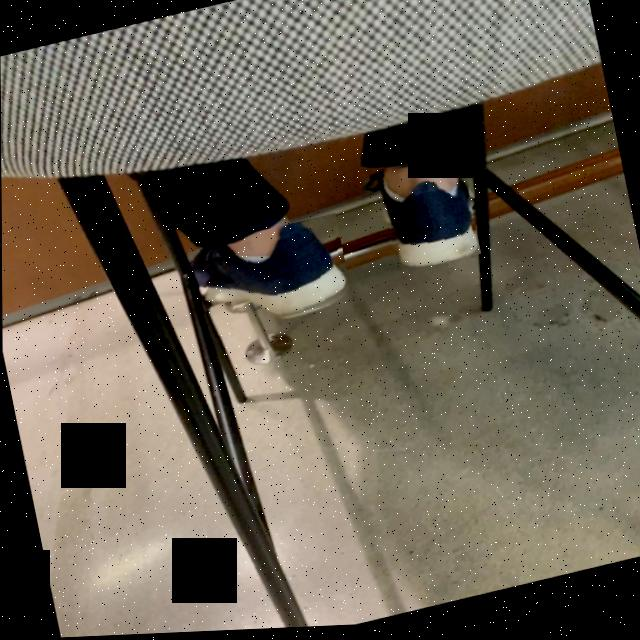shoe: (191, 225, 349, 320), (370, 168, 480, 274)
